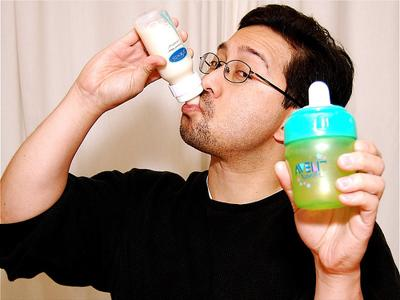person: (1, 4, 400, 300)
